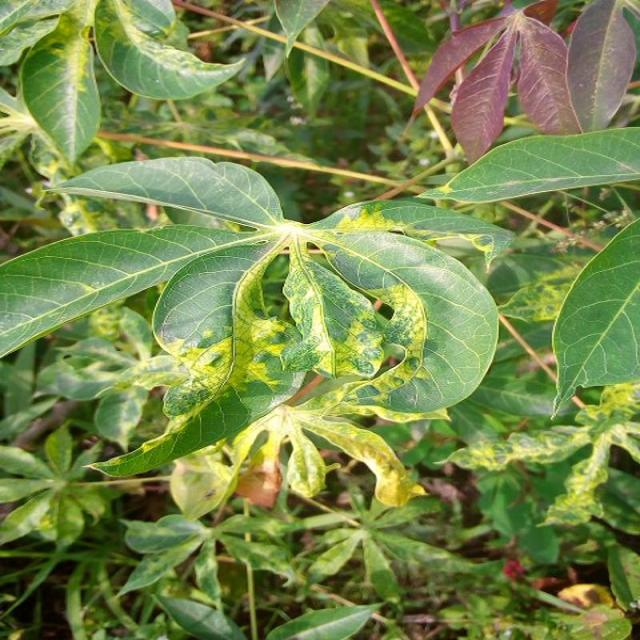cassava leaf: (1, 152, 503, 510), (297, 204, 500, 421), (549, 216, 639, 420)
